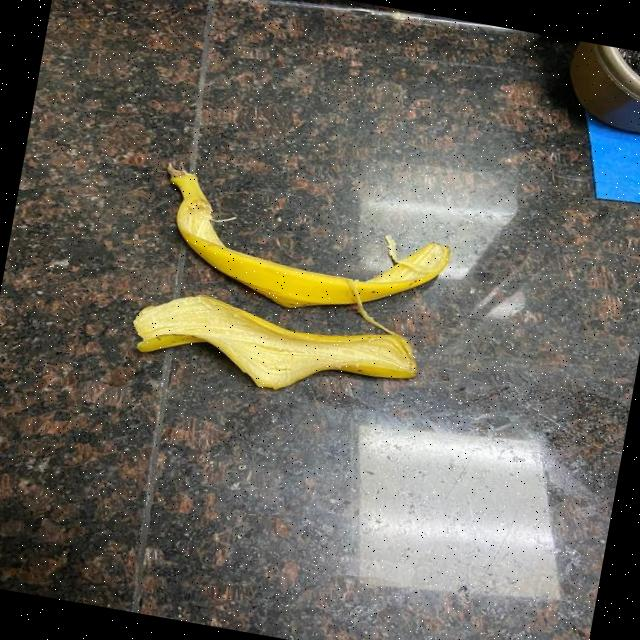banana-peel: (144, 159, 457, 334), (124, 280, 423, 414)
